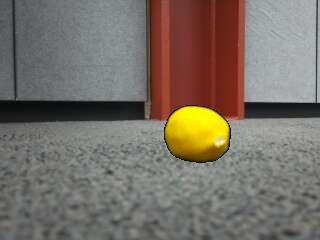lemon: (165, 106, 229, 163)
